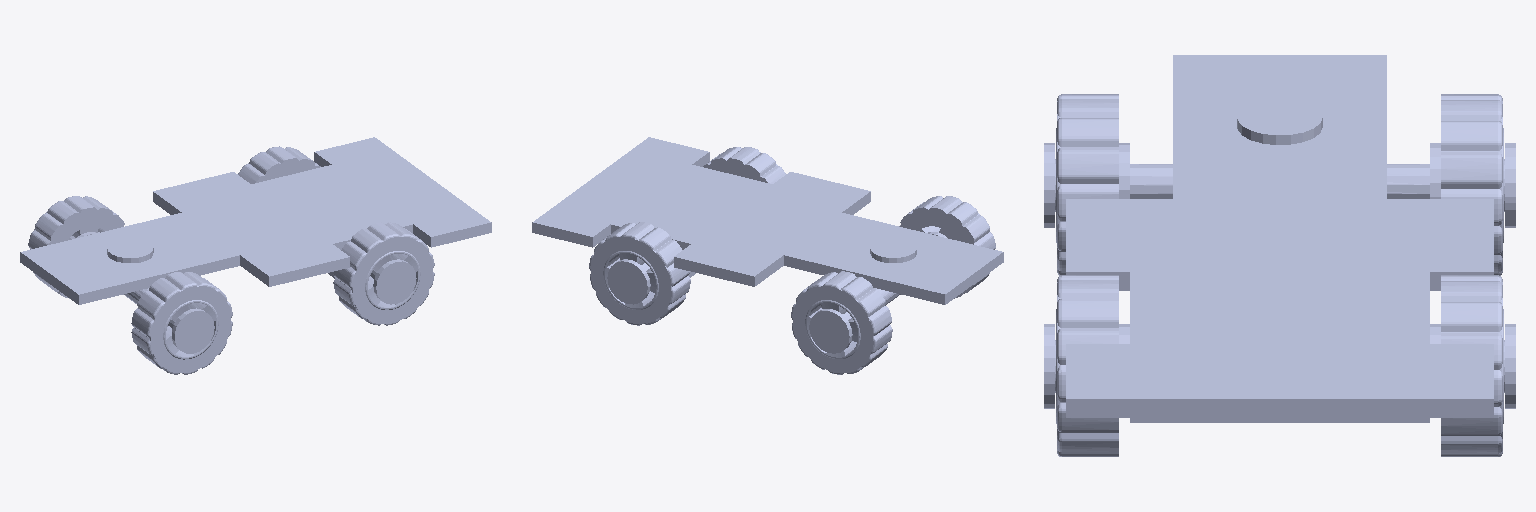
robot.urdf — model4_new:
<?xml version="1.0" encoding="utf-8"?>
<!-- This URDF was automatically created by SolidWorks to URDF Exporter! Originally created by [author] ([email redacted]) 
     Commit Version: 1.6.0-1-g15f4949  Build Version: 1.6.7594.29634
     For more information, please see http://wiki.ros.org/sw_urdf_exporter -->
<robot
  name="model4_new">

  <link 
    name= "dummy_link">
  </link>  

  <link
    name="base_link">
    <inertial>
      <origin
        xyz="0.10394 -0.0029832 -8.5535E-18"
        rpy="0 0 0" />
      <mass
        value="11.944" />
      <inertia
        ixx="0.17567"
        ixy="0.023351"
        ixz="7.4916E-17"
        iyy="0.86961"
        iyz="4.3047E-18"
        izz="0.7189" />
    </inertial>
    <visual>
      <origin
        xyz="0 0 0"
        rpy="0 0 0" />
      <geometry>
        <mesh
          filename="package://model4_new/meshes/base_link.STL" />
      </geometry>
      <material
        name="">
        <color
          rgba="0.79216 0.81961 0.93333 1" />
      </material>
    </visual>
    <collision>
      <origin
        xyz="0 0 0"
        rpy="0 0 0" />
      <geometry>
        <mesh
          filename="package://model4_new/meshes/base_link.STL" />
      </geometry>
    </collision>
  </link>

  <joint
    name= "dummy_joint"
    type="fixed">
    <parent 
    link="dummy_link"/>
    <child
    link="base_link"/>
  </joint> 

  <link
    name="rear_axle">
    <inertial>
      <origin
        xyz="-2.77555756156289E-17 -6.93889390390723E-18 -3.29063169625062E-17"
        rpy="0 0 0" />
      <mass
        value="1.44148143653656" />
      <inertia
        ixx="0.0466598415056552"
        ixy="-5.92249757537018E-37"
        ixz="-4.01606554724839E-19"
        iyy="0.0466598415056552"
        iyz="-4.07187056796288E-34"
        izz="0.000863558580481933" />
    </inertial>
    <visual>
      <origin
        xyz="0 0 0"
        rpy="0 0 0" />
      <geometry>
        <mesh
          filename="package://model4_new/meshes/rear_axle.STL" />
      </geometry>
      <material
        name="">
        <color
          rgba="0.792156862745098 0.819607843137255 0.933333333333333 1" />
      </material>
    </visual>
    <collision>
      <origin
        xyz="0 0 0"
        rpy="0 0 0" />
      <geometry>
        <mesh
          filename="package://model4_new/meshes/rear_axle.STL" />
      </geometry>
    </collision>
  </link>
  <joint
    name="base_rear_axle"
    type="revolute">
    <origin
      xyz="0.2286 0 -0.0508"
      rpy="1.5708 0 0" />
    <parent
      link="base_link" />
    <child
      link="rear_axle" />
    <axis
      xyz="0 0 1" />
    <limit
      lower="0"
      upper="0"
      effort="0"
      velocity="0" />
  </joint>
  <link
    name="wheel3">
    <inertial>
      <origin
        xyz="8.64218918650295E-10 5.55111512312578E-17 0.0367997448515429"
        rpy="0 0 0" />
      <mass
        value="2.18102510469599" />
      <inertia
        ixx="0.0080679819070274"
        ixy="-6.34628215864103E-11"
        ixz="-1.00286817770486E-10"
        iyy="0.00806798198466086"
        iyz="2.67522980992825E-18"
        izz="0.0141652900371572" />
    </inertial>
    <visual>
      <origin
        xyz="0 0 0"
        rpy="0 0 0" />
      <geometry>
        <mesh
          filename="package://model4_new/meshes/wheel3.STL" />
      </geometry>
      <material
        name="">
        <color
          rgba="0.792156862745098 0.819607843137255 0.933333333333333 1" />
      </material>
    </visual>
    <collision>
      <origin
        xyz="0 0 0"
        rpy="0 0 0" />
      <geometry>
        <mesh
          filename="package://model4_new/meshes/wheel3.STL" />
      </geometry>
    </collision>
  </link>
  <joint
    name="rear_axle_wheel3"
    type="continuous">
    <origin
      xyz="0 0 -0.1905"
      rpy="3.1416 0 -2.7485" />
    <parent
      link="rear_axle" />
    <child
      link="wheel3" />
    <axis
      xyz="0 0 1" />
  </joint>
  <link
    name="wheel4">
    <inertial>
      <origin
        xyz="8.64218807627992E-10 -1.38777878078145E-17 0.036799744851543"
        rpy="0 0 0" />
      <mass
        value="2.181025104696" />
      <inertia
        ixx="0.0080679819070274"
        ixy="-6.34628213676971E-11"
        ixz="-1.00286818271925E-10"
        iyy="0.00806798198466086"
        iyz="1.82270810257325E-18"
        izz="0.0141652900371572" />
    </inertial>
    <visual>
      <origin
        xyz="0 0 0"
        rpy="0 0 0" />
      <geometry>
        <mesh
          filename="package://model4_new/meshes/wheel4.STL" />
      </geometry>
      <material
        name="">
        <color
          rgba="0.792156862745098 0.819607843137255 0.933333333333333 1" />
      </material>
    </visual>
    <collision>
      <origin
        xyz="0 0 0"
        rpy="0 0 0" />
      <geometry>
        <mesh
          filename="package://model4_new/meshes/wheel4.STL" />
      </geometry>
    </collision>
  </link>
  <joint
    name="rear_axle_wheel4"
    type="continuous">
    <origin
      xyz="0 0 0.1905"
      rpy="0 0 0" />
    <parent
      link="rear_axle" />
    <child
      link="wheel4" />
    <axis
      xyz="0 0 1" />
  </joint>
  <link
    name="front_axle">
    <inertial>
      <origin
        xyz="-3.90341147182838E-08 -0.0407988330271113 -1.04380367389723E-17"
        rpy="0 0 0" />
      <mass
        value="1.73241164957737" />
      <inertia
        ixx="0.0477807013752999"
        ixy="3.22917081844805E-11"
        ixz="1.64154002677884E-11"
        iyy="0.0469539126224443"
        iyz="5.23906982083041E-19"
        izz="0.00198629842988332" />
    </inertial>
    <visual>
      <origin
        xyz="0 0 0"
        rpy="0 0 0" />
      <geometry>
        <mesh
          filename="package://model4_new/meshes/front_axle.STL" />
      </geometry>
      <material
        name="">
        <color
          rgba="0.792156862745098 0.819607843137255 0.933333333333333 1" />
      </material>
    </visual>
    <collision>
      <origin
        xyz="0 0 0"
        rpy="0 0 0" />
      <geometry>
        <mesh
          filename="package://model4_new/meshes/front_axle.STL" />
      </geometry>
    </collision>
  </link>
  <joint
    name="base_front_axle"
    type="revolute">
    <origin
      xyz="-0.2794 0 0"
      rpy="1.5708 0 0" />
    <parent
      link="base_link" />
    <child
      link="front_axle" />
    <axis
      xyz="0 1 0" />
    <limit
      lower="-0.4"
      upper="0.4"
      effort="50"
      velocity="100" />
  </joint>
  <link
    name="wheel1">
    <inertial>
      <origin
        xyz="8.64262772459767E-10 -4.04051792024518E-14 0.0367997448515424"
        rpy="0 0 0" />
      <mass
        value="2.18102510469405" />
      <inertia
        ixx="0.0080679819070233"
        ixy="-6.34669398199422E-11"
        ixz="-1.00286870793171E-10"
        iyy="0.00806798198465566"
        iyz="5.07288407443803E-17"
        izz="0.014165290037149" />
    </inertial>
    <visual>
      <origin
        xyz="0 0 0"
        rpy="0 0 0" />
      <geometry>
        <mesh
          filename="package://model4_new/meshes/wheel1.STL" />
      </geometry>
      <material
        name="">
        <color
          rgba="0.792156862745098 0.819607843137255 0.933333333333333 1" />
      </material>
    </visual>
    <collision>
      <origin
        xyz="0 0 0"
        rpy="0 0 0" />
      <geometry>
        <mesh
          filename="package://model4_new/meshes/wheel1.STL" />
      </geometry>
    </collision>
  </link>
  <joint
    name="front_axle_wheel1"
    type="continuous">
    <origin
      xyz="0 -0.0508 -0.1905"
      rpy="3.1416 0 -2.7485" />
    <parent
      link="front_axle" />
    <child
      link="wheel1" />
    <axis
      xyz="0 0 1" />
  </joint>
  <link
    name="wheel2">
    <inertial>
      <origin
        xyz="8.64218807627992E-10 0 0.0367997448515429"
        rpy="0 0 0" />
      <mass
        value="2.18102510469599" />
      <inertia
        ixx="0.0080679819070274"
        ixy="-6.34628210829401E-11"
        ixz="-1.0028681789848E-10"
        iyy="0.00806798198466086"
        iyz="2.30316122595499E-18"
        izz="0.0141652900371572" />
    </inertial>
    <visual>
      <origin
        xyz="0 0 0"
        rpy="0 0 0" />
      <geometry>
        <mesh
          filename="package://model4_new/meshes/wheel2.STL" />
      </geometry>
      <material
        name="">
        <color
          rgba="0.792156862745098 0.819607843137255 0.933333333333333 1" />
      </material>
    </visual>
    <collision>
      <origin
        xyz="0 0 0"
        rpy="0 0 0" />
      <geometry>
        <mesh
          filename="package://model4_new/meshes/wheel2.STL" />
      </geometry>
    </collision>
  </link>
  <joint
    name="front_axle_wheel2"
    type="continuous">
    <origin
      xyz="0 -0.0508 0.1905"
      rpy="0 0 0" />
    <parent
      link="front_axle" />
    <child
      link="wheel2" />
    <axis
      xyz="0 0 1" />
  </joint>

<transmission name="streering_trans1">
  <type>SimpleTransmission</type>
  <joint name="base_front_axle">
    <hardwareInterface>hardware_interface/PositionJointInterface</hardwareInterface>
  </joint>
  <actuator name="steer_motor1">
    <mechanicalReduction>50</mechanicalReduction>
    <hardwareInterface>hardware_interface/PositionJointInterface</hardwareInterface>
  </actuator>
</transmission>
 
<transmission name="drive_trans1">
  <type>SimpleTransmission</type>
  <joint name="front_axle_wheel1">
    <hardwareInterface>hardware_interface/VelocityJointInterface</hardwareInterface>
  </joint>
  <actuator name="drive_motor1">
    <mechanicalReduction>50</mechanicalReduction>
    <hardwareInterface>hardware_interface/VelocityJointInterface</hardwareInterface>
  </actuator>
</transmission>
  
<transmission name="drive_trans2">
  <type>SimpleTransmission</type>
  <joint name="front_axle_wheel2">
    <hardwareInterface>hardware_interface/VelocityJointInterface</hardwareInterface>
  </joint>
  <actuator name="drive_motor2">
    <mechanicalReduction>50</mechanicalReduction>
    <hardwareInterface>hardware_interface/VelocityJointInterface</hardwareInterface>
  </actuator>
</transmission>
  
<transmission name="drive_trans3">
  <type>SimpleTransmission</type>
  <joint name="rear_axle_wheel3">
    <hardwareInterface>hardware_interface/VelocityJointInterface</hardwareInterface>
  </joint>
  <actuator name="drive_motor3">
    <mechanicalReduction>50</mechanicalReduction>
    <hardwareInterface>hardware_interface/VelocityJointInterface</hardwareInterface>
  </actuator>
</transmission>
  
<transmission name="drive_trans4">
  <type>SimpleTransmission</type>
  <joint name="rear_axle_wheel4">
    <hardwareInterface>hardware_interface/VelocityJointInterface</hardwareInterface>
  </joint>
  <actuator name="drive_motor4">
    <mechanicalReduction>50</mechanicalReduction>
    <hardwareInterface>hardware_interface/VelocityJointInterface</hardwareInterface>
  </actuator>
</transmission>

</robot>

--- What the picture shows (computed from the rendered views, not written in the file) ---
The picture shows the robot from 3 angles, left to right: view 1: azimuth 30°, elevation 25°; view 2: azimuth 150°, elevation 25°; view 3: azimuth 270°, elevation 25°; orthographic projection.
Model model4_new with 8 links and 7 joints (2 revolute, 4 continuous, 1 fixed), rooted at dummy_link, posed all joints at 0.
Visible links, largest first — view 1: base_link, wheel2, wheel4, wheel1, front_axle, wheel3, rear_axle; view 2: base_link, wheel1, wheel3, wheel2, front_axle, wheel4, rear_axle; view 3: base_link, front_axle, wheel3, wheel4, wheel1, wheel2, rear_axle.
Boxes of the visible links, <box> form: base_link: <box>20,137,491,304</box>; wheel2: <box>131,272,232,374</box>; wheel4: <box>333,222,434,325</box>; wheel1: <box>28,196,124,298</box>; front_axle: <box>77,232,214,353</box>; wheel3: <box>238,146,320,183</box>; rear_axle: <box>373,259,416,304</box>; base_link: <box>532,137,1003,304</box>; wheel1: <box>791,271,892,374</box>; wheel3: <box>589,222,690,325</box>; wheel2: <box>899,196,995,298</box>; front_axle: <box>809,232,946,353</box>; wheel4: <box>703,147,785,183</box>; rear_axle: <box>607,259,650,304</box>; base_link: <box>1066,55,1493,422</box>; front_axle: <box>1044,99,1515,227</box>; wheel3: <box>1441,275,1504,456</box>; wheel4: <box>1055,275,1118,456</box>; wheel1: <box>1441,94,1504,275</box>; wheel2: <box>1055,94,1118,275</box>; rear_axle: <box>1044,324,1515,408</box>.
Bounding box of the posed robot: 0.9652 × 0.5588 × 0.2159 m (x, y, z).
7 mesh visuals loaded from 7 distinct referenced files (7 binary STL).